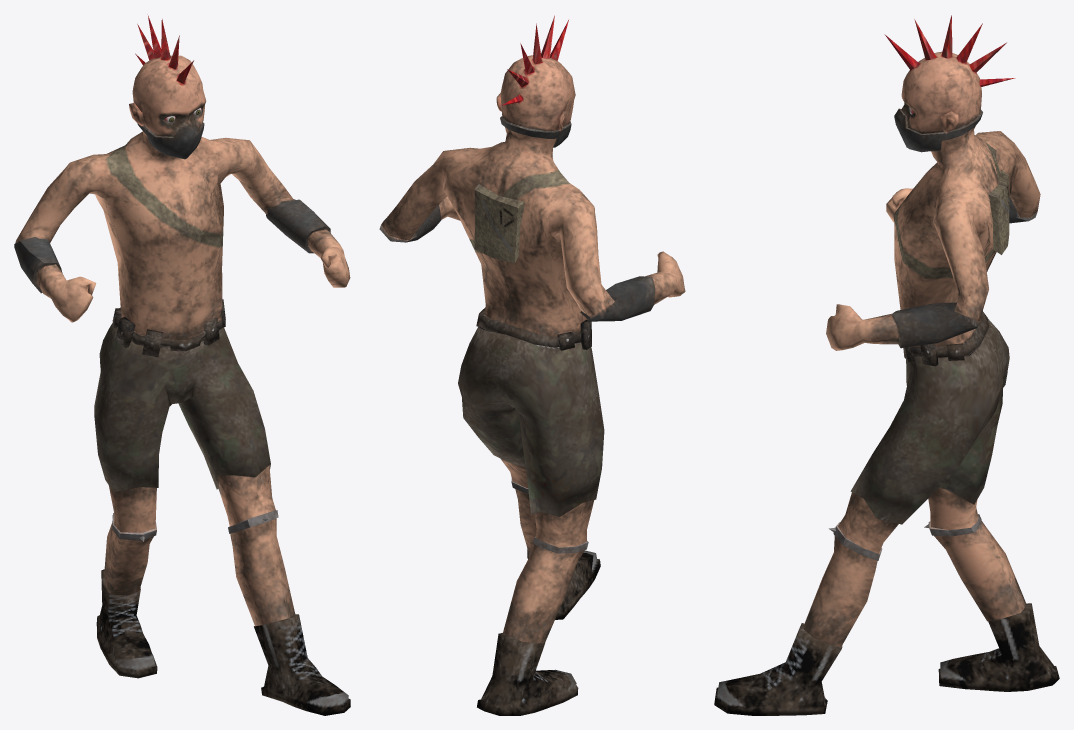
File: Anim_ataque_d1_npc2.0028.obj
3 views of the same model, side by side, from view 1: azimuth 30°, elevation 25°; view 2: azimuth 150°, elevation 25°; view 3: azimuth 270°, elevation 25° (orthographic). The views are drawn at different scales.
Parts seen in each view (by area): view 1: polySurface1; view 2: polySurface1; view 3: polySurface1.
Boxes of the visible parts, bbox=[...] form: polySurface1: bbox=[14, 14, 350, 715]; polySurface1: bbox=[379, 15, 685, 715]; polySurface1: bbox=[714, 15, 1059, 715].
Size of the model in its own units: 4.34 by 9.91 by 4.58.
